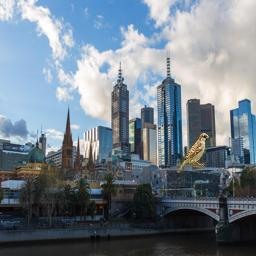Sparrow: (177, 133, 209, 173)
